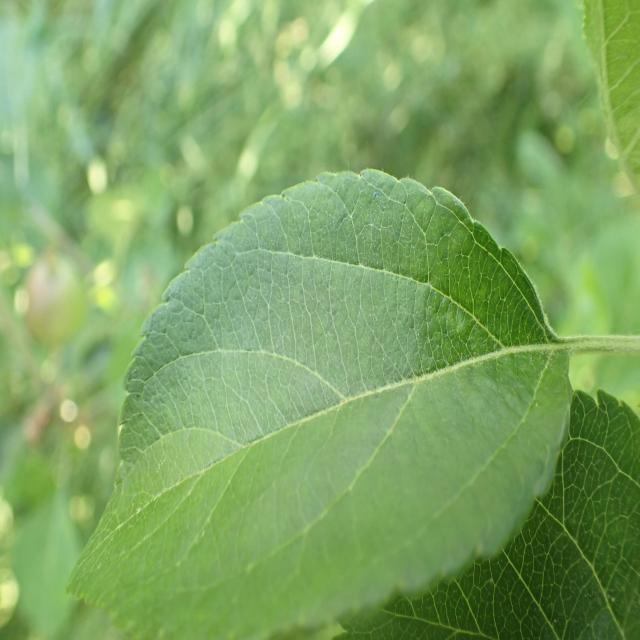healthy: (64, 167, 574, 640), (333, 386, 640, 640), (580, 0, 640, 192)
